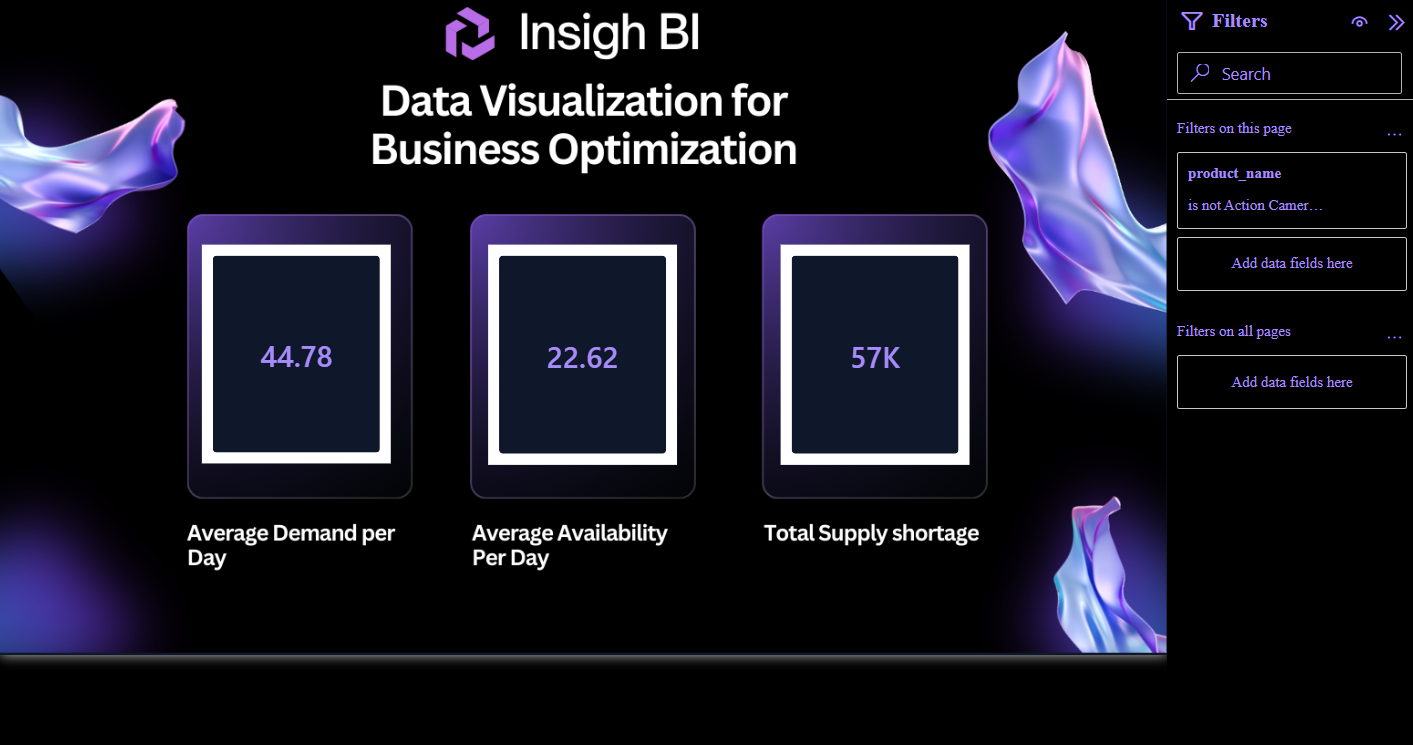

The dashboard page shown, as its layout file describes it:
{"tool":"powerbi","page":{"name":"Page 1","canvas":[1280,720],"ordinal":0},"visuals":[{"type":"cardVisual","fields":{"Data":["Measures Table.Average Demand Per Day"]},"box":[217.3,265.1,217.3,250.4],"z":0},{"type":"cardVisual","fields":{"Data":["Measures Table.Average Availabilty Per Day"]},"box":[530.8,264.2,217.8,251.1],"z":1000},{"type":"cardVisual","fields":{"Data":["Measures Table.Total Supply Shortage"]},"box":[850.9,264.2,217.8,251.1],"z":2000}]}

Visuals, with their boxes on the page's 1280x720 design canvas (x1, y1, x2, y2). These are canvas units, not pixel positions in the 1413x745 screenshot, which may show the page scaled, cropped or inside an application window:
cardVisual - Measures Table.Average Demand Per Day: 217,265,435,516
cardVisual - Measures Table.Average Availabilty Per Day: 531,264,749,515
cardVisual - Measures Table.Total Supply Shortage: 851,264,1069,515
